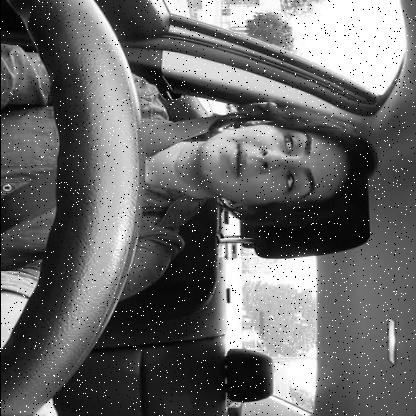seatbelt: (0, 95, 385, 236)
